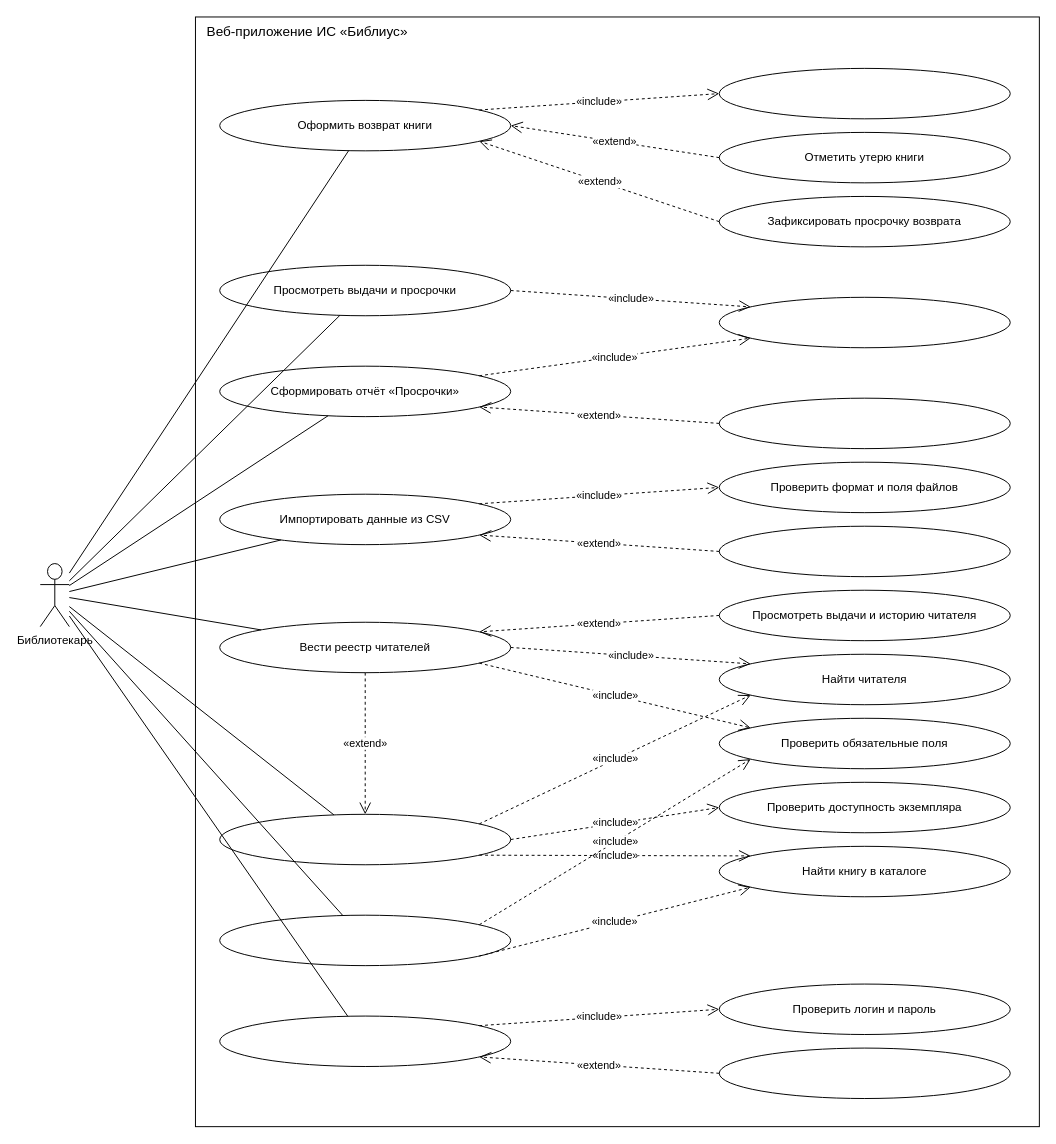
Some shapes in this 1056 by 1144 pixel diagram are drawn without their labels. Here are the shapes that lost their labels. From the top down, the centre of each, then its label:
the point at 864,93: Найти выдачу
the point at 864,322: Задать фильтры
the point at 864,423: Экспортировать отчёт в CSV
the point at 864,551: Показать ошибки импорта
the point at 365,839: Оформить выдачу книги
the point at 365,940: Вести каталог книг
the point at 365,1041: Авторизоваться
the point at 864,1073: Показать ошибку входа
